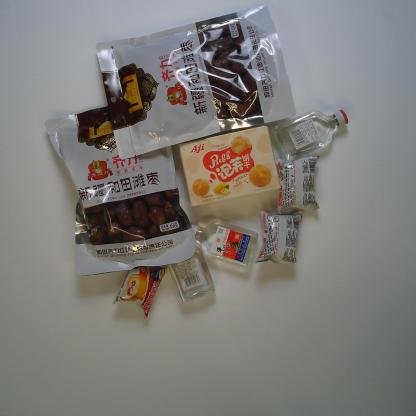Alcohol: (178, 216, 260, 270), (160, 227, 217, 304), (271, 107, 349, 162)
Dessert: (173, 124, 281, 211), (112, 259, 168, 318), (254, 207, 304, 268), (274, 154, 322, 214)
Dried Food: (94, 3, 297, 160), (42, 100, 198, 277)
